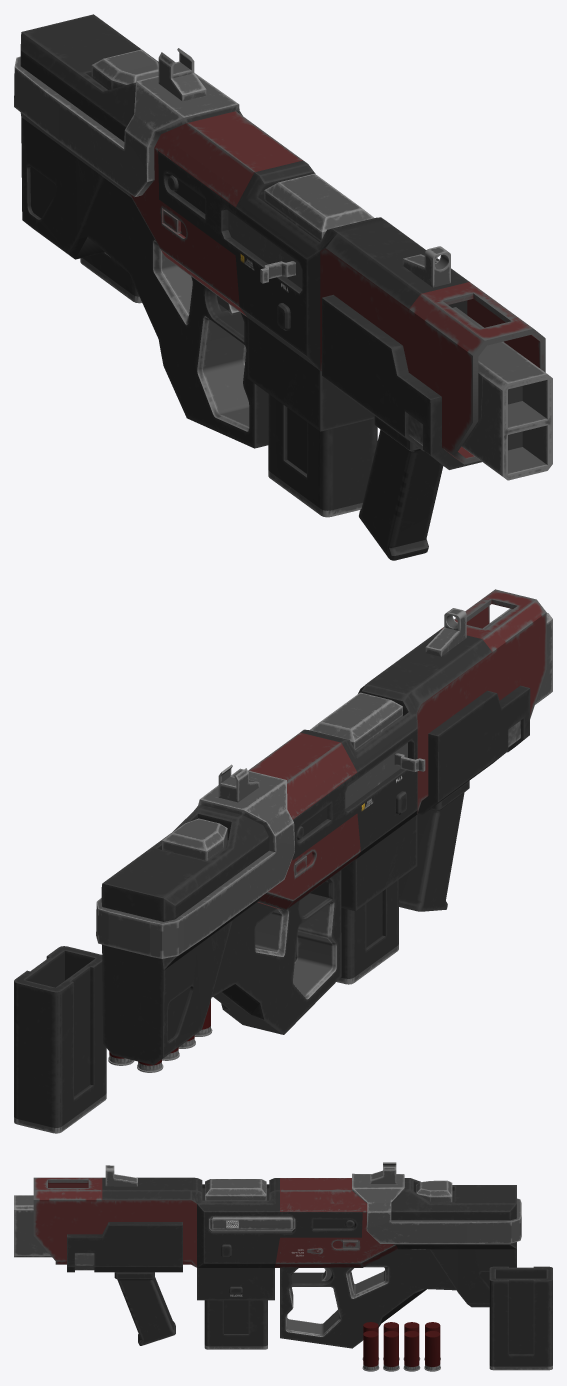
The picture shows the model from 3 angles, top to bottom: view 1: azimuth 30°, elevation 25°; view 2: azimuth 150°, elevation 25°; view 3: azimuth 270°, elevation 25°; orthographic projection. The views are drawn at different scales.
Visible parts, largest first — view 1: polySurface43, Cartridge, polySurface44, Cartridge3; view 2: polySurface43, Cartridge3, Cartridge, polySurface44; view 3: polySurface43, Cartridge3, Cartridge, pCylinder7, pCylinder5, pCylinder8, pCylinder6.
Boxes of the visible parts, x1,y1,x2,y2 form: polySurface43: (14,14,552,560); Cartridge: (268,394,377,517); polySurface44: (228,211,302,288); Cartridge3: (80,252,142,303); polySurface43: (96,589,552,1065); Cartridge3: (14,946,106,1133); Cartridge: (336,880,398,984); polySurface44: (345,743,425,808); polySurface43: (14,1162,521,1348); Cartridge3: (489,1266,552,1370); Cartridge: (204,1300,267,1349); pCylinder7: (403,1331,420,1371); pCylinder5: (362,1331,379,1371); pCylinder8: (424,1331,440,1371); pCylinder6: (383,1331,399,1371).
Size of the model in its own units: 0.1915 by 0.3427 by 0.9328.
Materials: 5 (5 with a texture image).
